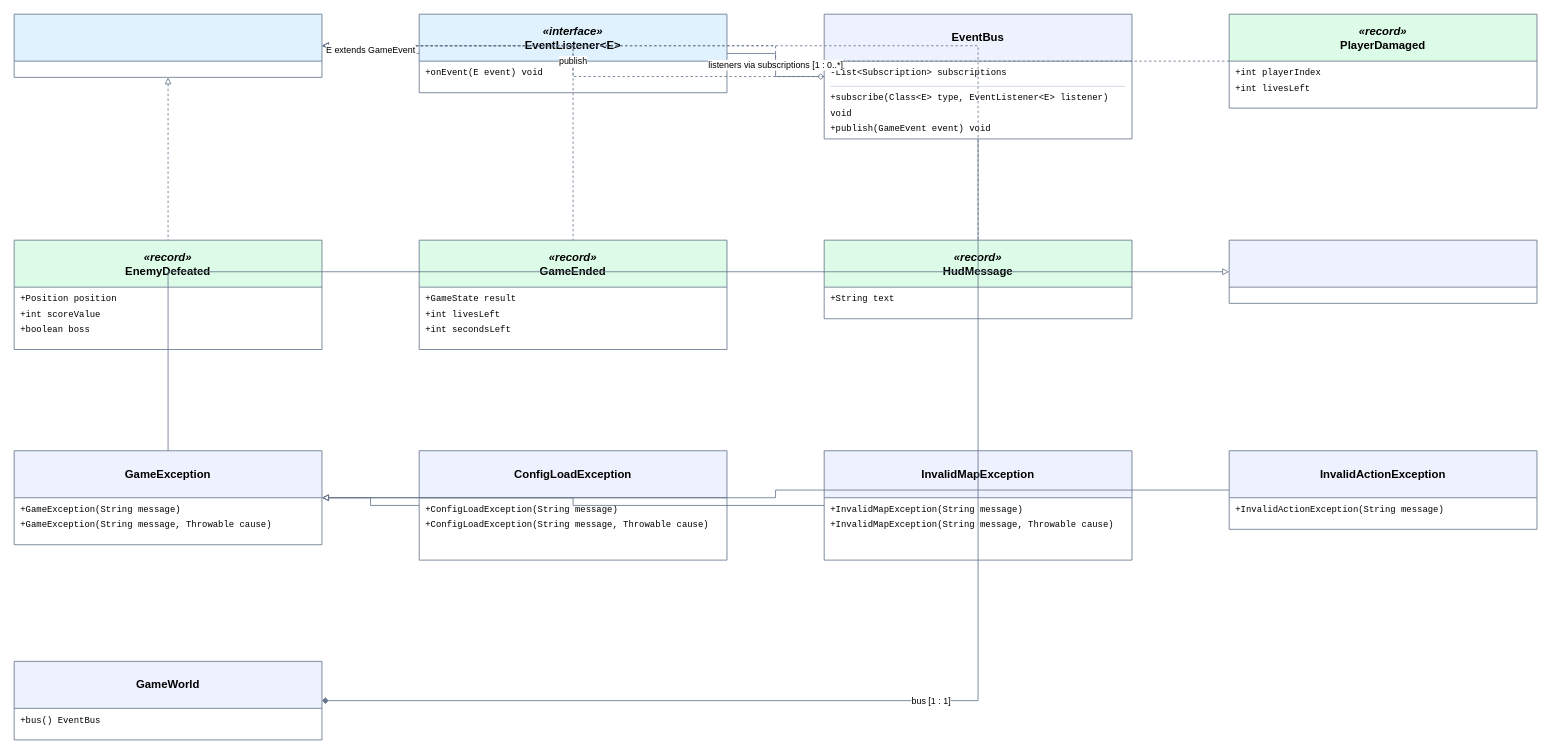
The diagram is 1551 pixels wide and 754 high, and some of its shapes have lost their labels. The shapes that lost their labels are listed below. From the top down, each one's centre as x and y in pixels, then its label:
At (x=167, y=45): "«interface» GameEvent".
At (x=1382, y=271): "«Java» RuntimeException".
